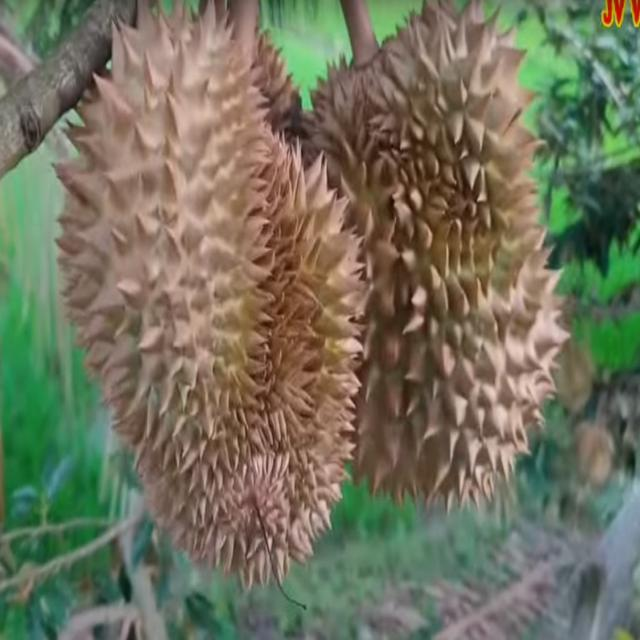mature: (55, 0, 366, 595), (301, 0, 572, 510)
